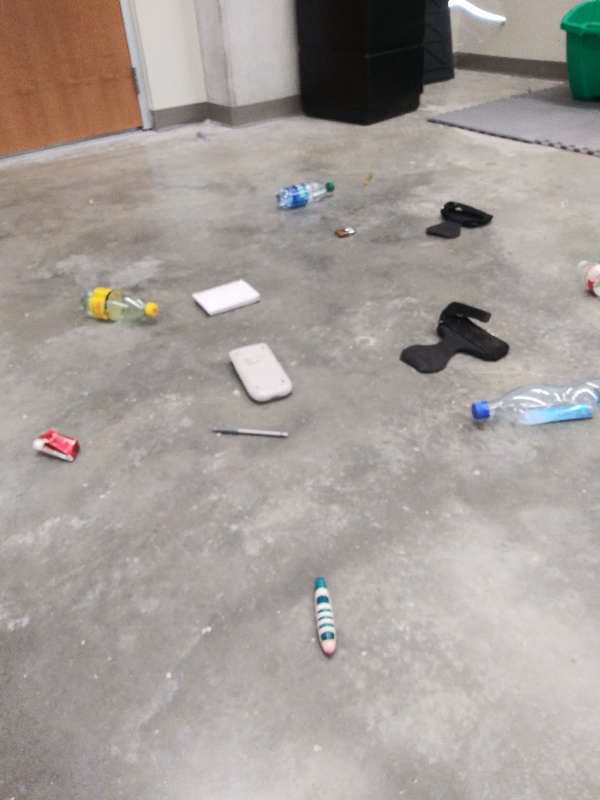bottle: (468, 372, 600, 428), (75, 283, 167, 327), (276, 178, 339, 215), (577, 252, 600, 309)
